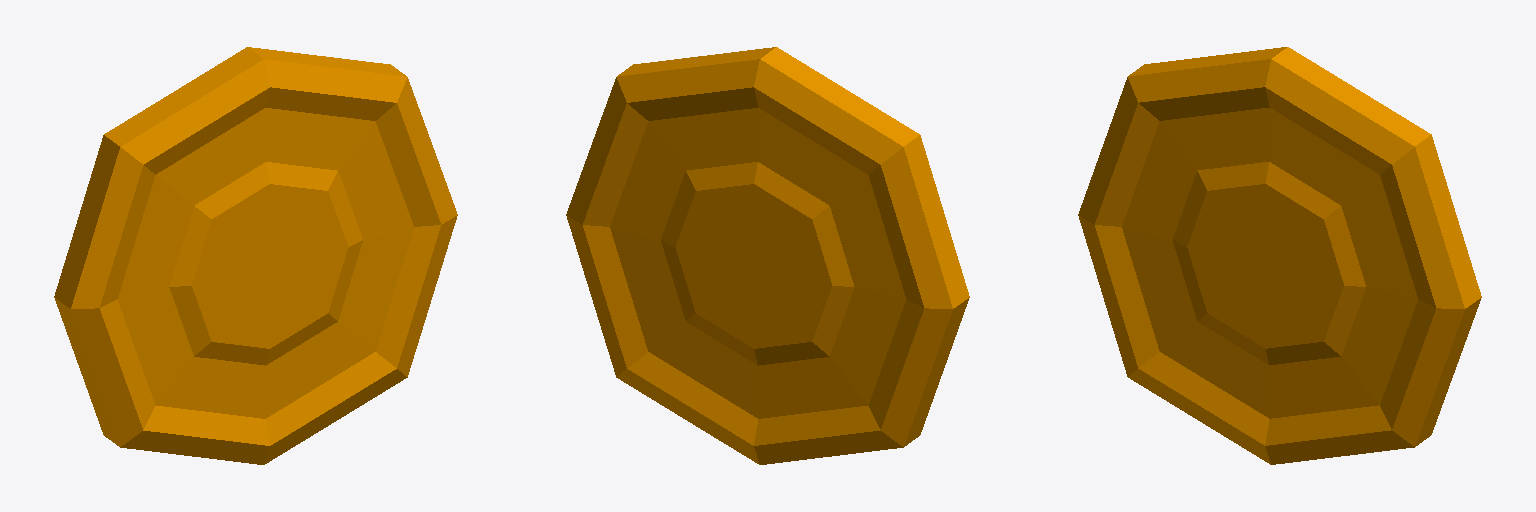
Rendered from dubloon_simple.obj.
The picture shows the model from 3 angles: view 1: azimuth 30°, elevation 25°; view 2: azimuth 150°, elevation 25°; view 3: azimuth 330°, elevation 25°; orthographic projection.
Visible parts, largest first — view 1: Cylinder003; view 2: Cylinder003; view 3: Cylinder003.
Boxes of the visible parts, x1=… form: Cylinder003: x1=54, y1=47, x2=457, y2=464; Cylinder003: x1=566, y1=47, x2=969, y2=464; Cylinder003: x1=1078, y1=47, x2=1481, y2=464.
Bounding box in the file's own units: 21.78 × 21.84 × 2.83.